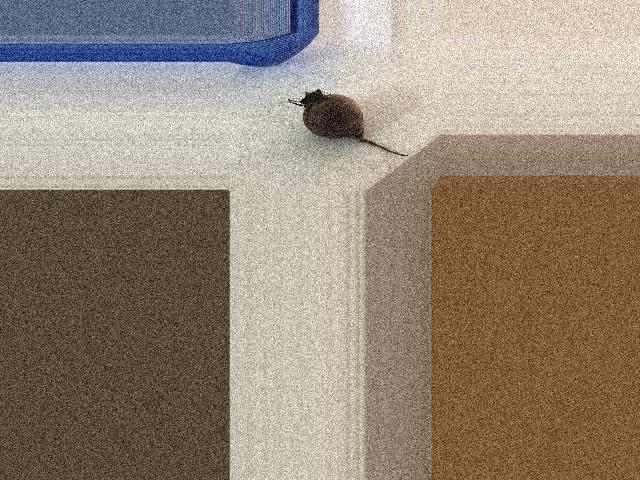beet: (289, 89, 408, 157)
